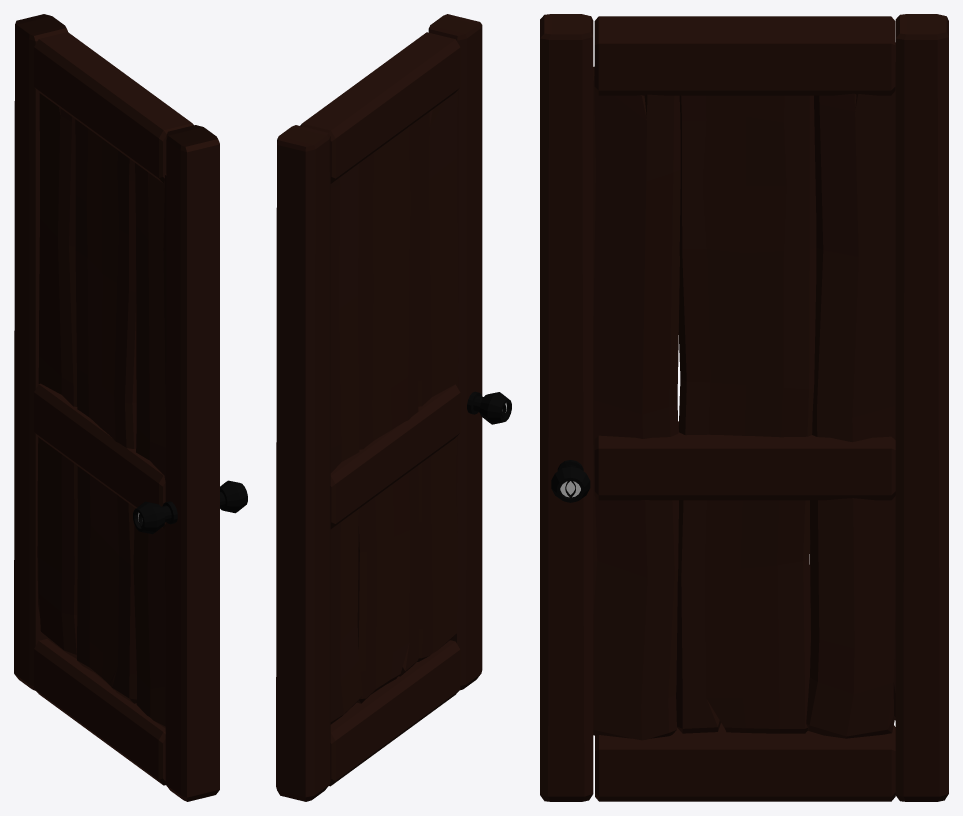
The model's file is Door4.fbx.
3 renders of one model, left to right at view 1: azimuth 30°, elevation 25°; view 2: azimuth 150°, elevation 25°; view 3: azimuth 270°, elevation 25°, orthographic. The views are drawn at different scales.
Parts seen in each view (by area): view 1: DoorFrame015, DoorCenter005, Knob005, knob005; view 2: DoorFrame015, DoorCenter005, Knob005; view 3: DoorCenter005, DoorFrame015, knob005.
Part boxes in pixels (left/top/right/bottom): DoorFrame015: left=14, top=14, right=219, bottom=801; DoorCenter005: left=37, top=93, right=166, bottom=728; Knob005: left=133, top=501, right=177, bottom=534; knob005: left=220, top=480, right=247, bottom=513; DoorFrame015: left=276, top=14, right=482, bottom=801; DoorCenter005: left=330, top=89, right=458, bottom=724; Knob005: left=467, top=391, right=511, bottom=424; DoorCenter005: left=593, top=42, right=895, bottom=740; DoorFrame015: left=540, top=14, right=948, bottom=801; knob005: left=551, top=460, right=590, bottom=502.
Bounding box in the file's own units: 84.6 × 509 × 245.
